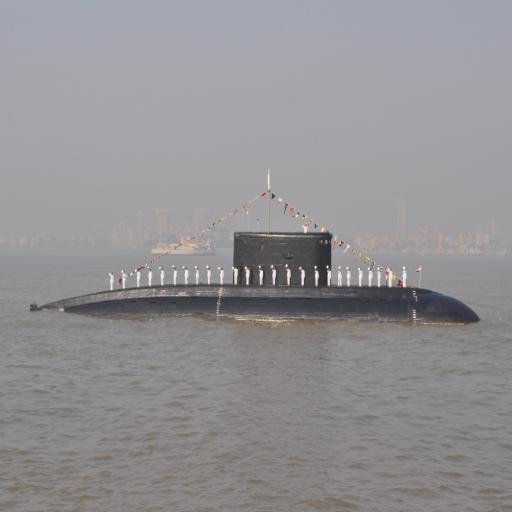submarine: (34, 231, 489, 314)
